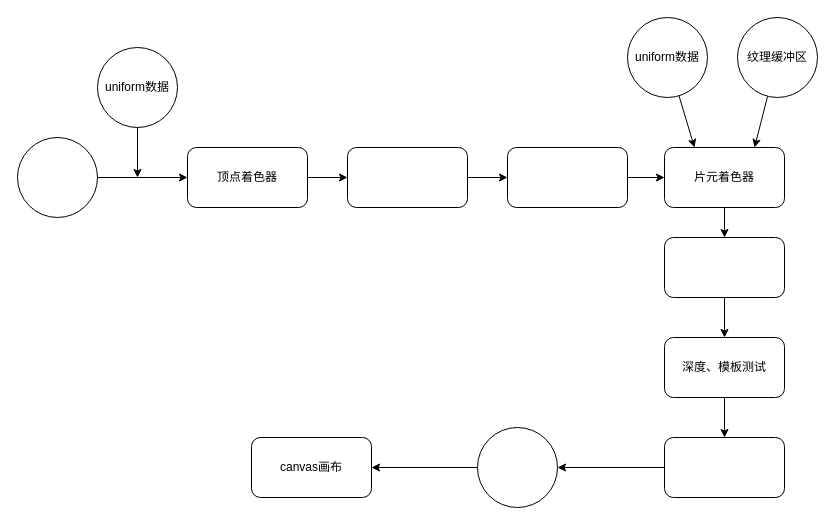
Some shapes in this 835 by 525 pixel diagram are drawn without their labels. The shapes that lost their labels are listed below. From the top down, each one's box as (x1, y1, x2, y2) in pixels, then its label:
(16, 136, 98, 218): 顶点缓冲区
(346, 146, 468, 208): 图元装配
(506, 146, 628, 208): 光栅器
(476, 426, 558, 508): 颜色缓冲区
